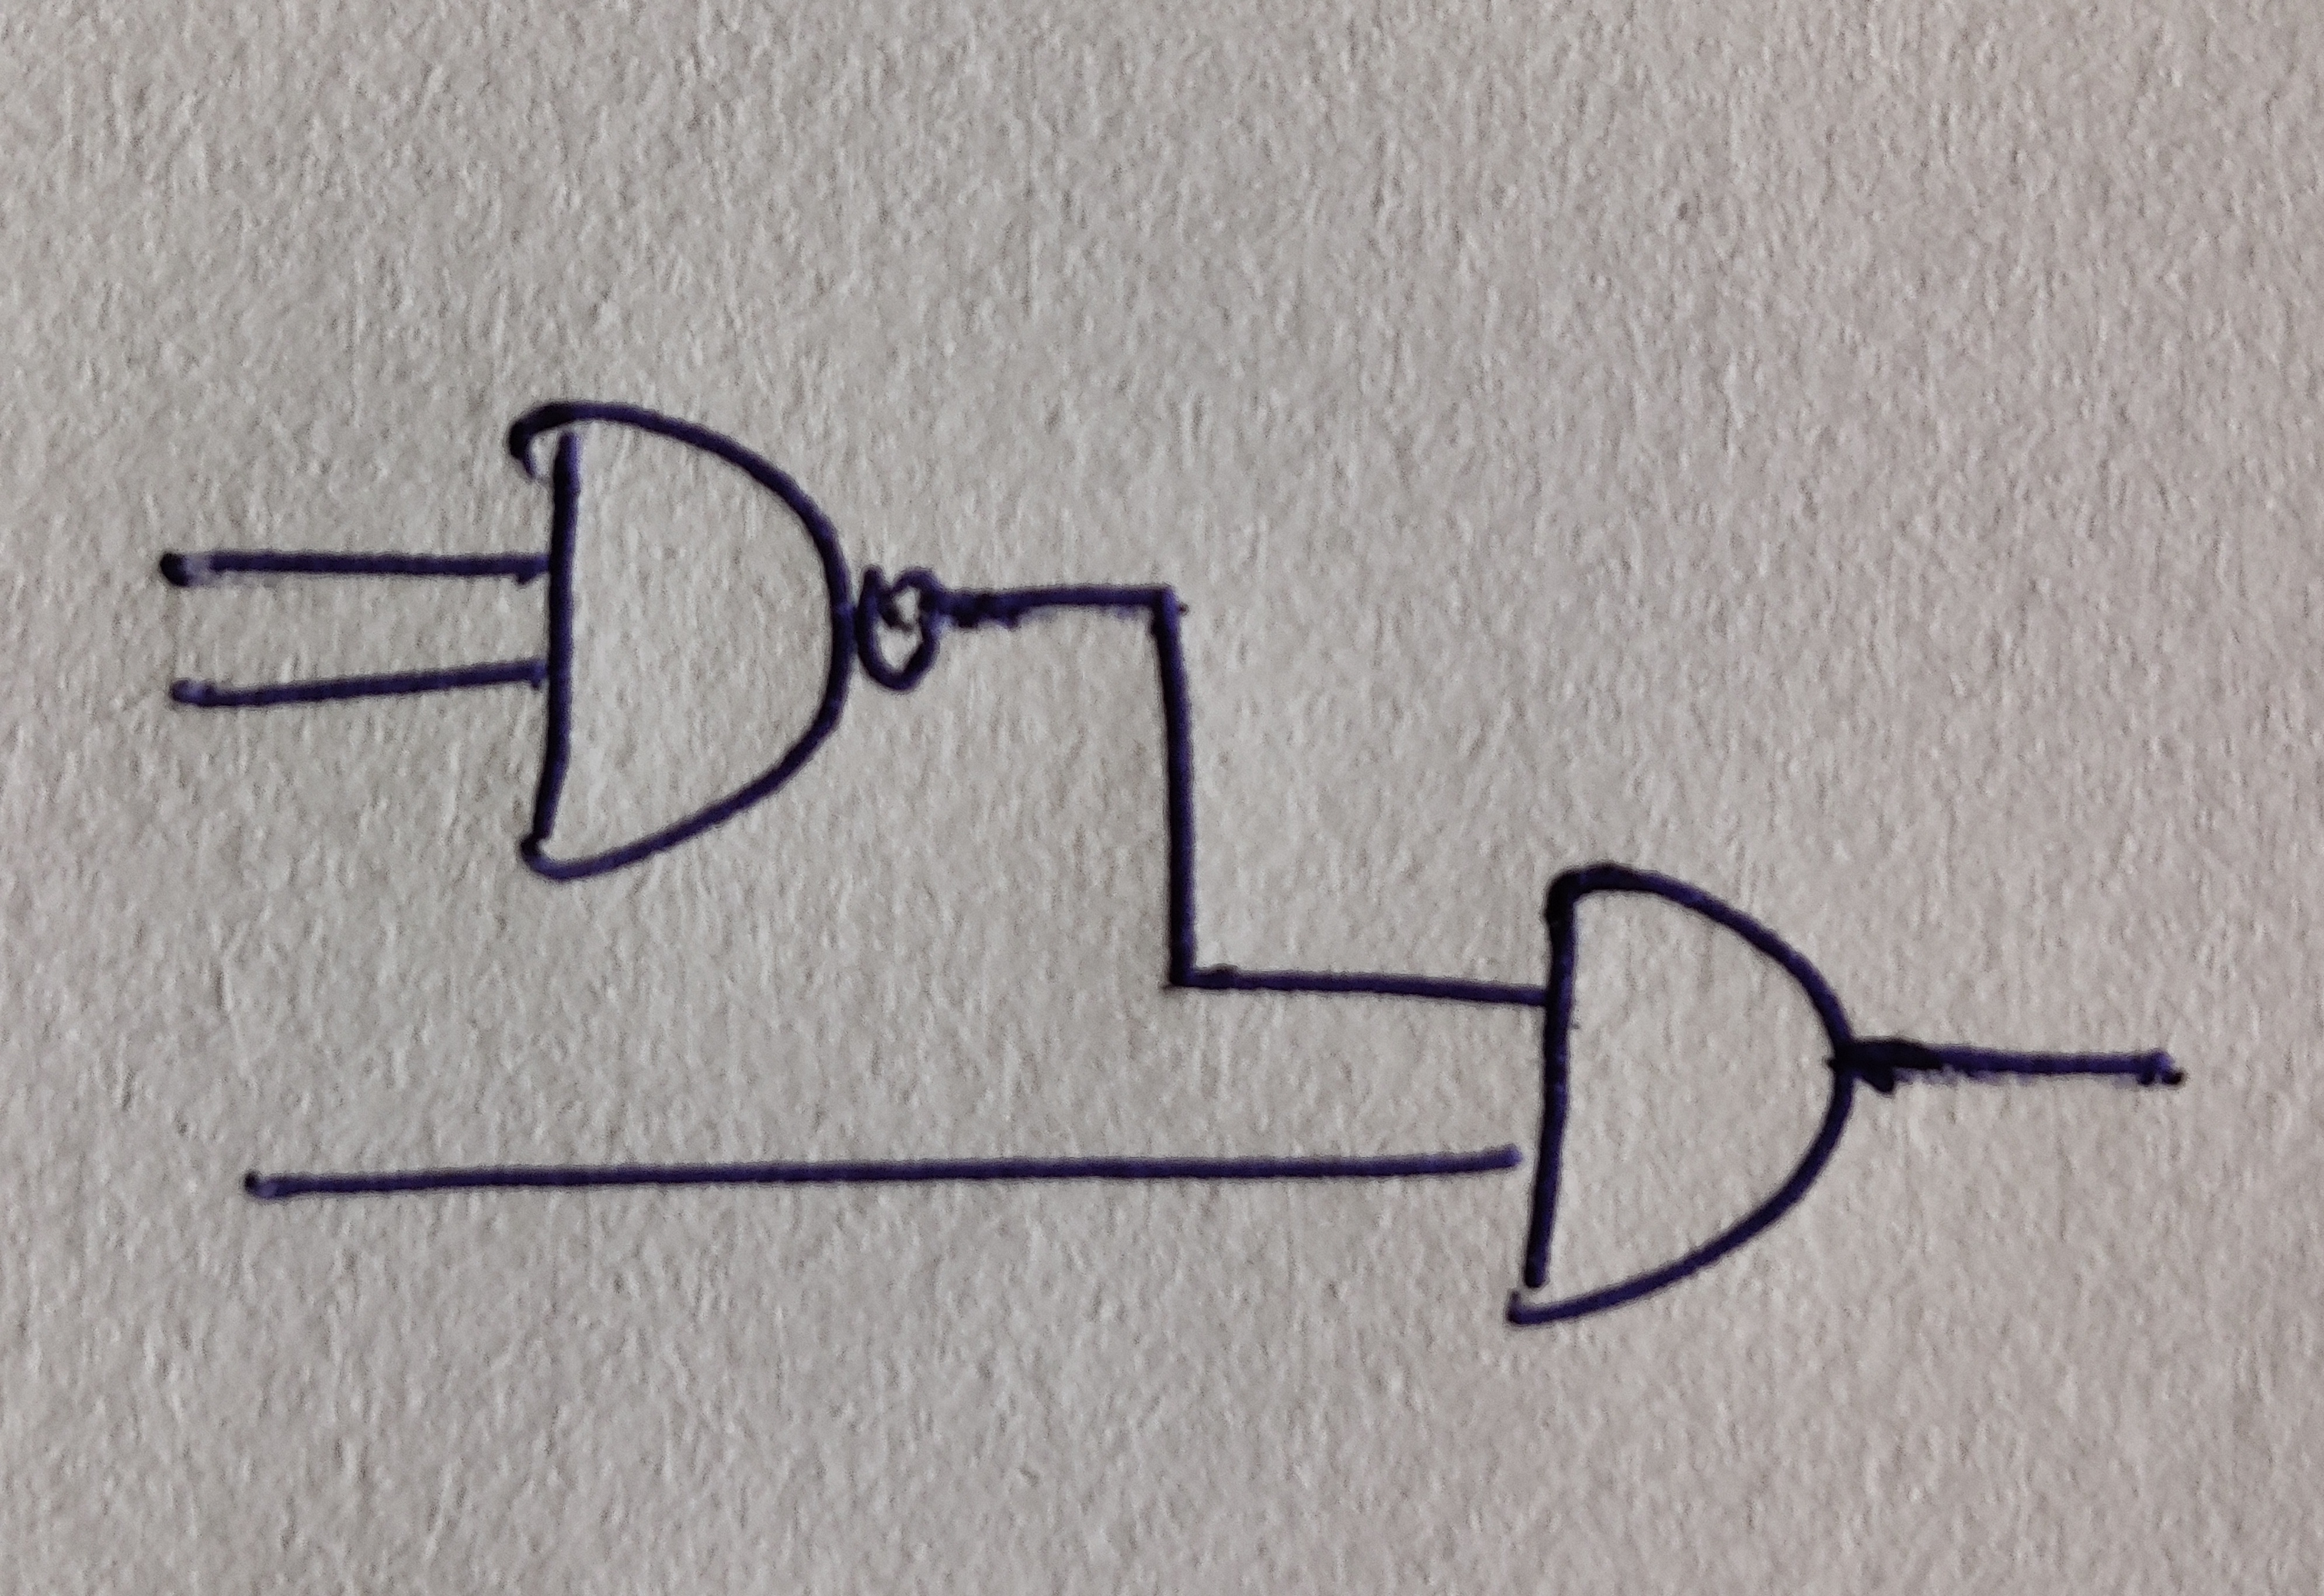and: (510, 401, 856, 883), (1506, 863, 1856, 1329)
not: (855, 565, 941, 692)
